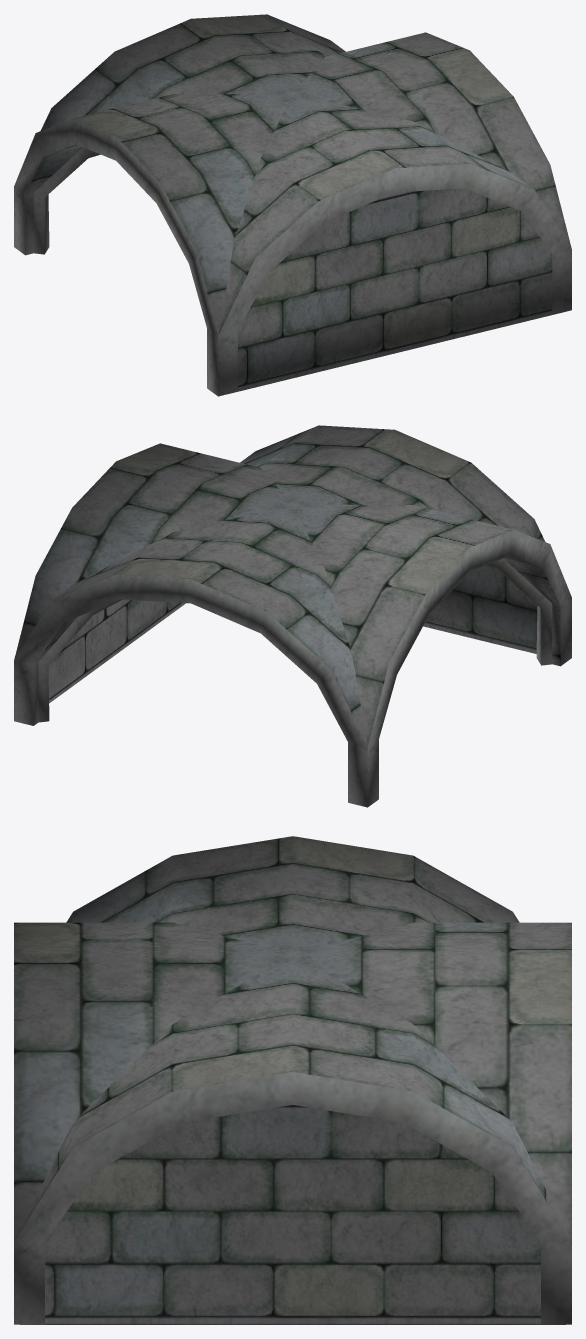
The model's file is vault_ceiling_large_04.glb.
3 views of the same model, one above another, from view 1: azimuth 30°, elevation 25°; view 2: azimuth 150°, elevation 25°; view 3: azimuth 270°, elevation 25° (orthographic). The views are drawn at different scales.
Visible parts, largest first — view 1: vault_ceiling_large_04; view 2: vault_ceiling_large_04; view 3: vault_ceiling_large_04.
Part boxes in pixels (<box>): vault_ceiling_large_04: <box>14,14,571,396</box>; vault_ceiling_large_04: <box>14,425,571,807</box>; vault_ceiling_large_04: <box>14,836,571,1324</box>.
Size of the model in its own units: 4 by 2 by 4.
1 material, 1 textured.
